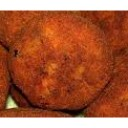cutlet: (8, 15, 115, 105)
